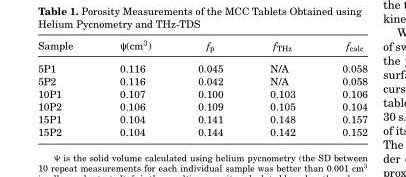table: (37, 37, 366, 137)
table column: (95, 37, 173, 137), (173, 37, 246, 137), (246, 37, 318, 137), (37, 37, 95, 137), (318, 37, 366, 137)
table column header: (37, 37, 366, 56)
table row: (37, 37, 366, 56), (37, 56, 366, 74), (37, 86, 366, 99), (37, 99, 366, 112), (37, 112, 366, 125), (37, 74, 366, 86), (37, 125, 366, 137)
